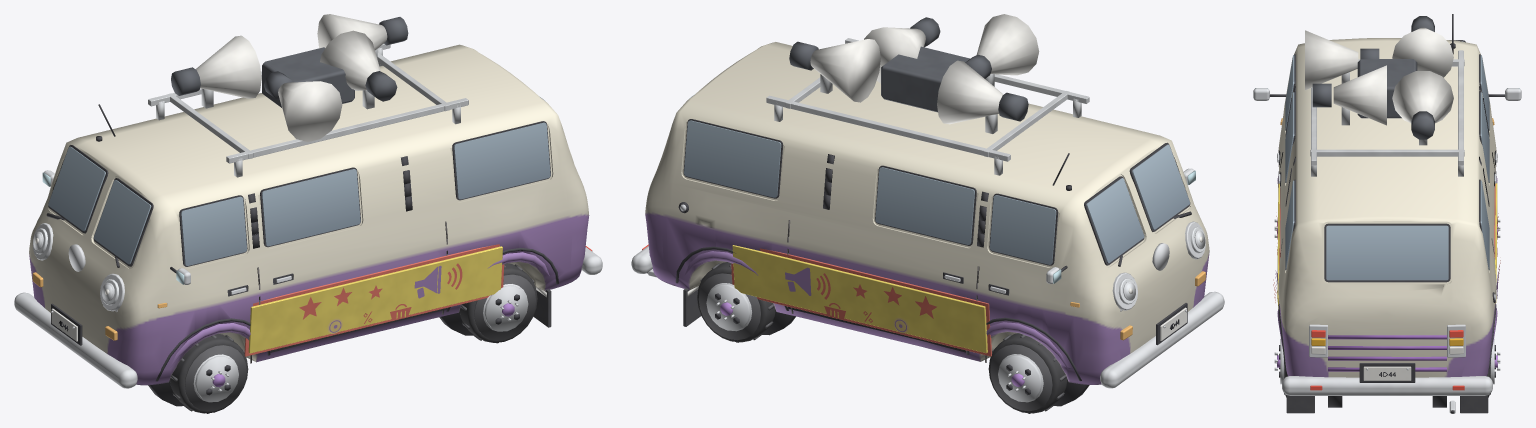
File: Som_Van.fbx
3 views of the same model, side by side, from view 1: azimuth 30°, elevation 25°; view 2: azimuth 150°, elevation 25°; view 3: azimuth 270°, elevation 25° (orthographic). The views are drawn at different scales.
Visible parts, largest first — view 1: Som_Van; view 2: Som_Van; view 3: Som_Van.
Boxes of the visible parts, left/top/right/bottom form: Som_Van: left=14, top=14, right=602, bottom=413; Som_Van: left=631, top=14, right=1224, bottom=413; Som_Van: left=1253, top=14, right=1521, bottom=413.
Bounding box in the file's own units: 4.51 × 2.67 × 2.26.
1 material, 1 textured.
